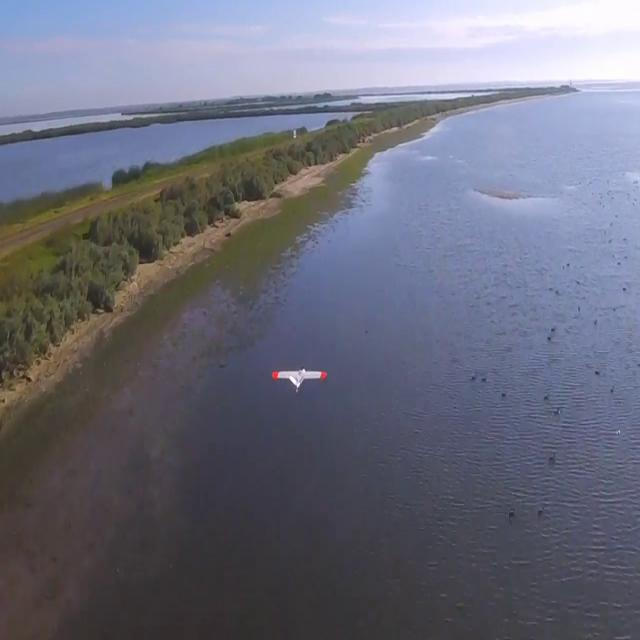iha: (271, 365, 327, 395)
